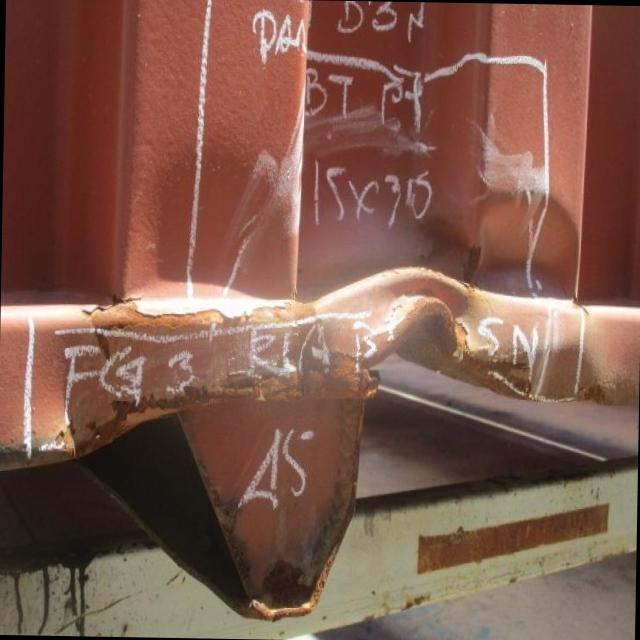Deframe_or_Dent: (113, 152, 585, 318)
